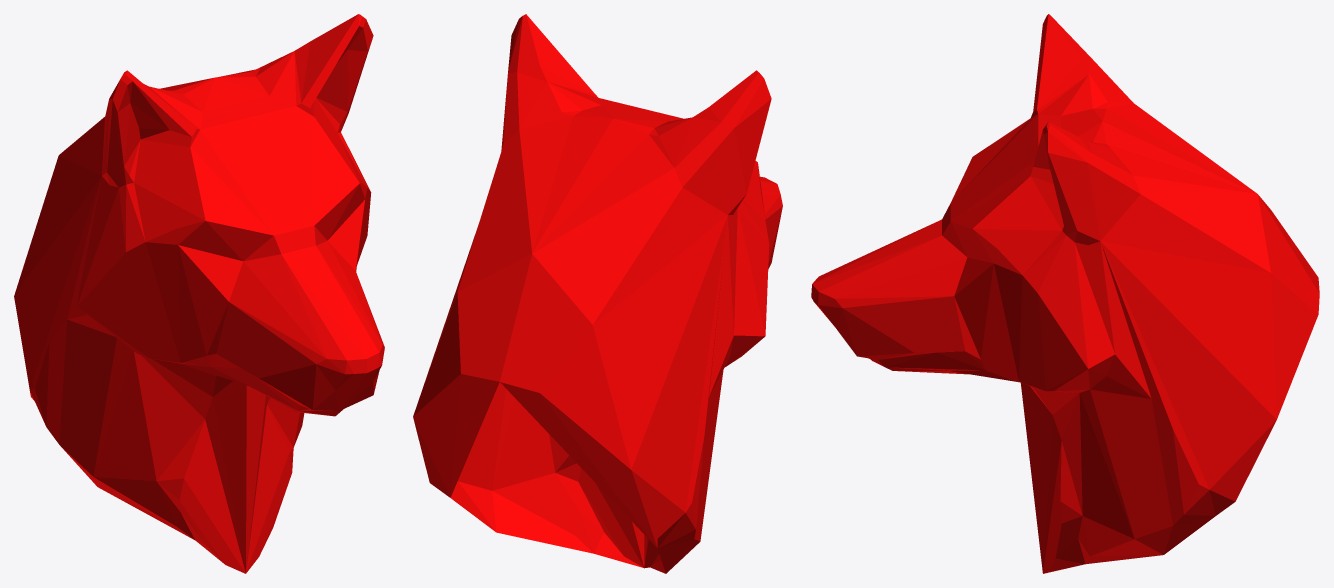
File: fox.glb
The picture shows the model from 3 angles, left to right: view 1: azimuth 30°, elevation 25°; view 2: azimuth 150°, elevation 25°; view 3: azimuth 270°, elevation 25°; orthographic projection. The views are drawn at different scales.
Visible parts, largest first — view 1: wolf head_0; view 2: wolf head_0; view 3: wolf head_0.
Boxes of the visible parts, <box> form: wolf head_0: <box>14,14,384,573</box>; wolf head_0: <box>413,14,782,573</box>; wolf head_0: <box>811,14,1319,573</box>.
Bounding box in the file's own units: 57.5 × 100 × 91.2.
